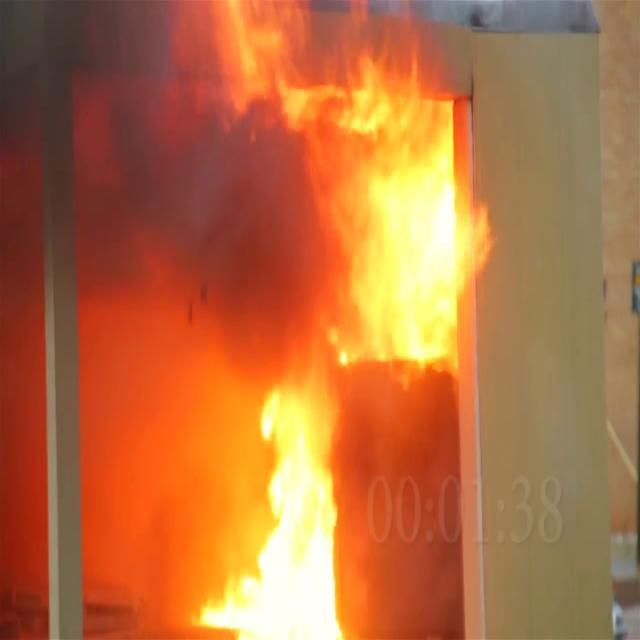Fire: (188, 1, 487, 392), (186, 350, 362, 636)
